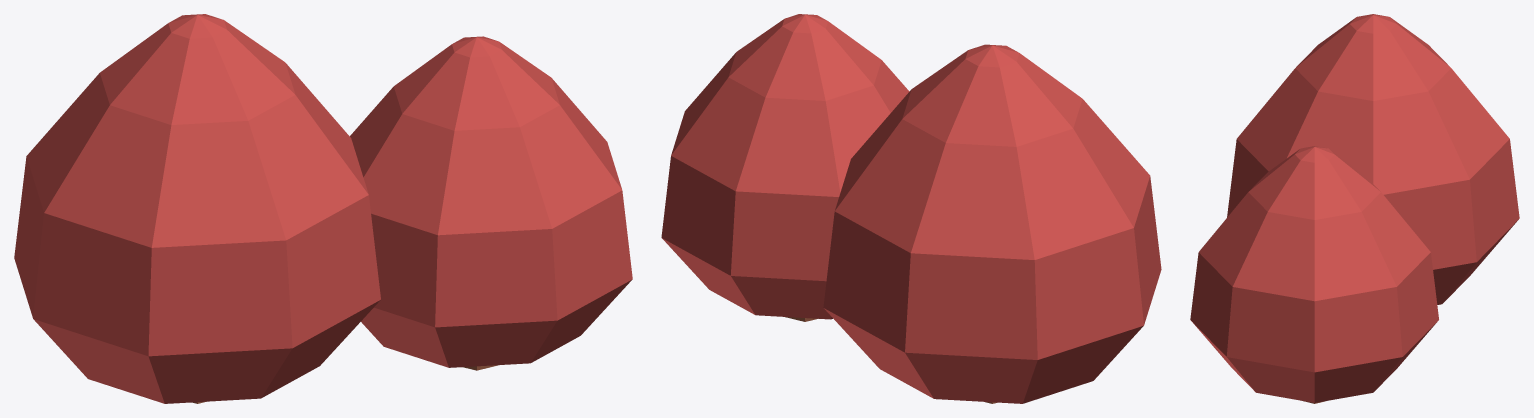
File: shallot-raw.glb
The picture shows the model from 3 angles, left to right: view 1: azimuth 30°, elevation 25°; view 2: azimuth 150°, elevation 25°; view 3: azimuth 270°, elevation 25°; orthographic projection. The views are drawn at different scales.
Parts seen in each view (by area): view 1: shallot-raw; view 2: shallot-raw; view 3: shallot-raw.
Boxes of the visible parts, x1=… form: shallot-raw: x1=14, y1=14, x2=632, y2=403; shallot-raw: x1=661, y1=14, x2=1161, y2=403; shallot-raw: x1=1190, y1=14, x2=1519, y2=403.
Bounding box in the file's own units: 0.2488 × 0.163 × 0.1688.
Materials: 1 (1 with a texture image).
